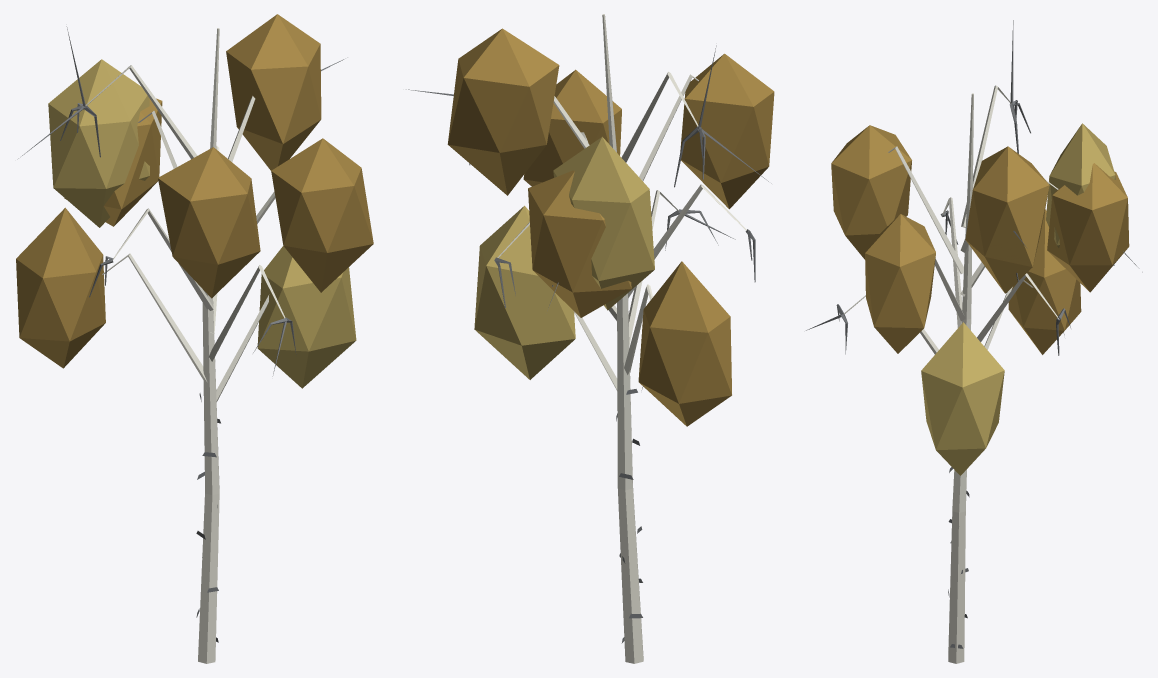
File: birch_autumn_late_01.glb
3 views of the same model, side by side, from view 1: azimuth 30°, elevation 25°; view 2: azimuth 150°, elevation 25°; view 3: azimuth 270°, elevation 25° (orthographic). The views are drawn at different scales.
Parts seen in each view (by area): view 1: Birch_autumn_late_01; view 2: Birch_autumn_late_01; view 3: Birch_autumn_late_01.
Part boxes in pixels (x1=…): Birch_autumn_late_01: x1=16, y1=14, x2=373, y2=663; Birch_autumn_late_01: x1=406, y1=14, x2=774, y2=663; Birch_autumn_late_01: x1=806, y1=20, x2=1142, y2=663.
Size of the model in its own units: 9.55 by 16.92 by 8.77.
